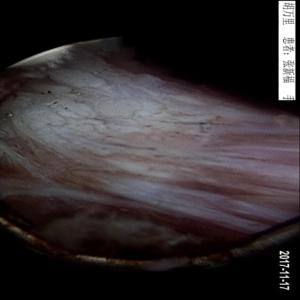film: (64, 117, 291, 248)
